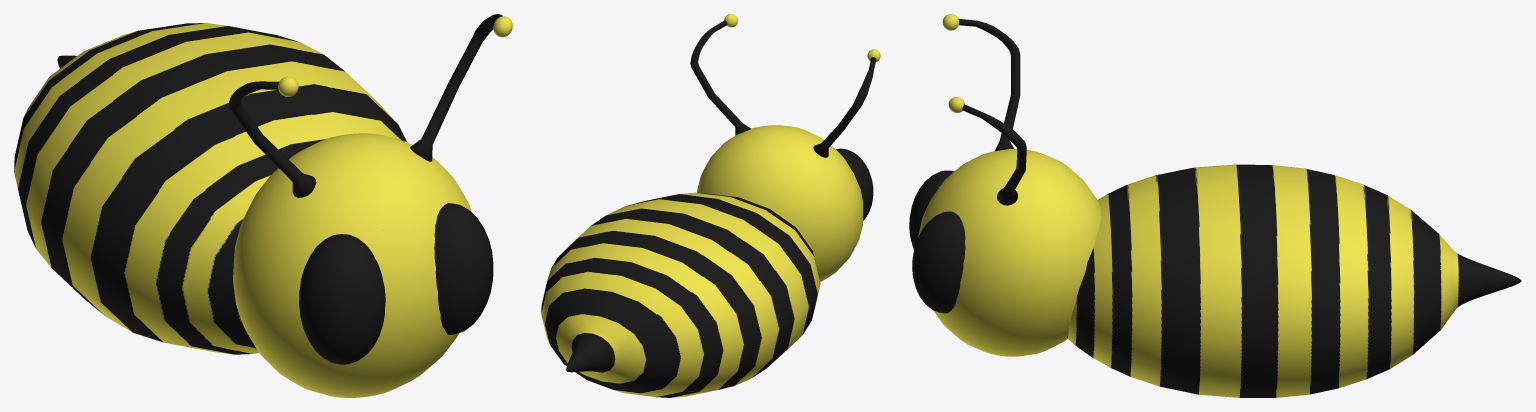
The model's file is Abelha(1).fbx.
3 renders of one model, left to right at view 1: azimuth 30°, elevation 25°; view 2: azimuth 150°, elevation 25°; view 3: azimuth 270°, elevation 25°, orthographic. The views are drawn at different scales.
Visible parts, largest first — view 1: Sphere.002; view 2: Sphere.002; view 3: Sphere.002.
Part boxes in pixels (left/top/right/bottom): Sphere.002: left=14, top=14, right=512, bottom=397; Sphere.002: left=541, top=14, right=880, bottom=397; Sphere.002: left=909, top=14, right=1521, bottom=397.
Size of the model in its own units: 3712 by 4263 by 7329.
Materials: 1 (1 with a texture image).
